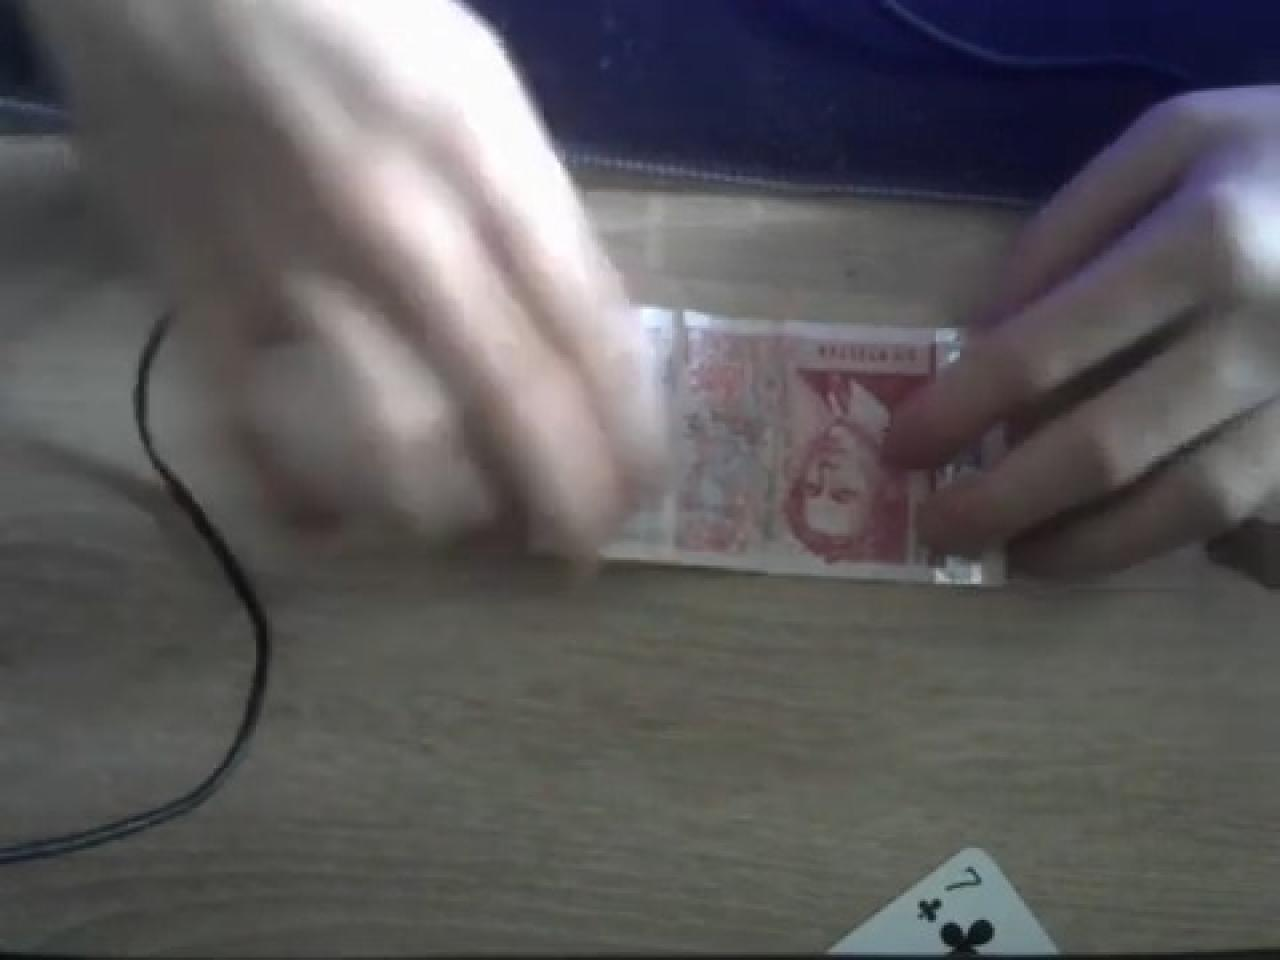5leva: (629, 312, 949, 579)
